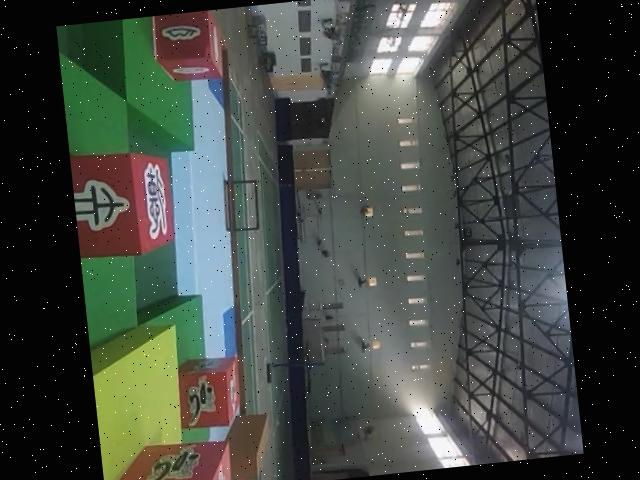R1: (100, 433, 240, 480), (172, 353, 246, 433)
R2 Fake: (70, 144, 180, 265)
R2 Real: (148, 9, 229, 85)
